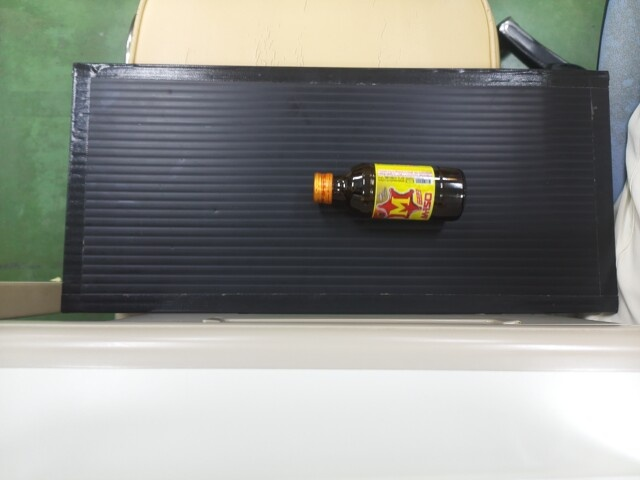glass_bottle: (309, 163, 466, 221)
